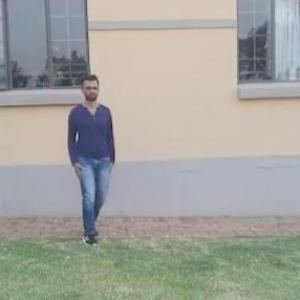follow: (68, 74, 117, 239)
